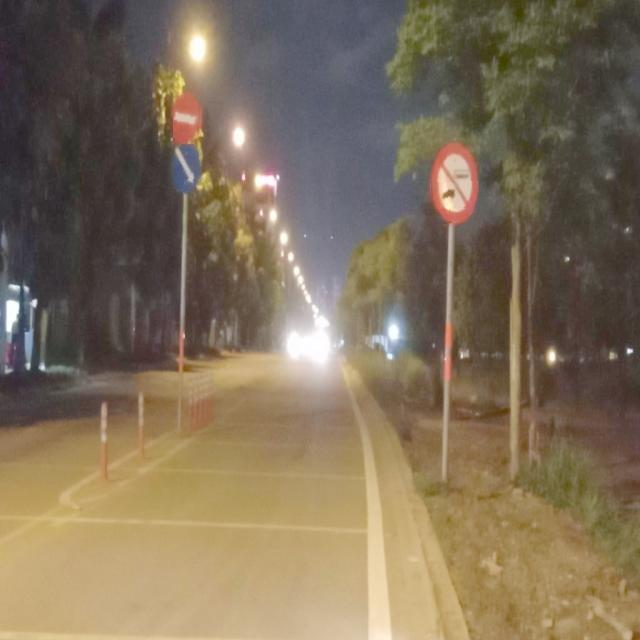107-cam-oto-khach-va-oto-tai: (429, 141, 479, 224)
